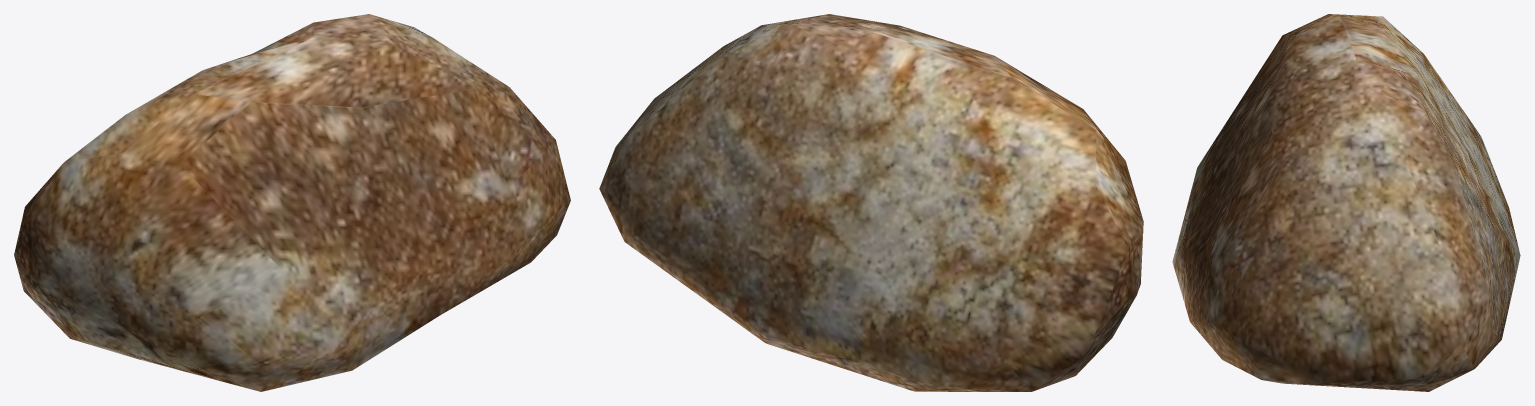
Rendered from rock.glb.
3 renders of one model, left to right at view 1: azimuth 30°, elevation 25°; view 2: azimuth 150°, elevation 25°; view 3: azimuth 270°, elevation 25°, orthographic. The views are drawn at different scales.
Visible parts, largest first — view 1: rock051_lod4; view 2: rock051_lod4; view 3: rock051_lod4.
Boxes of the visible parts, x1,y1,x2,y2 form: rock051_lod4: [14, 14, 570, 391]; rock051_lod4: [599, 14, 1143, 391]; rock051_lod4: [1172, 14, 1520, 391].
Bounding box in the file's own units: 1 × 0.5557 × 0.5863.
1 material, 1 textured.
